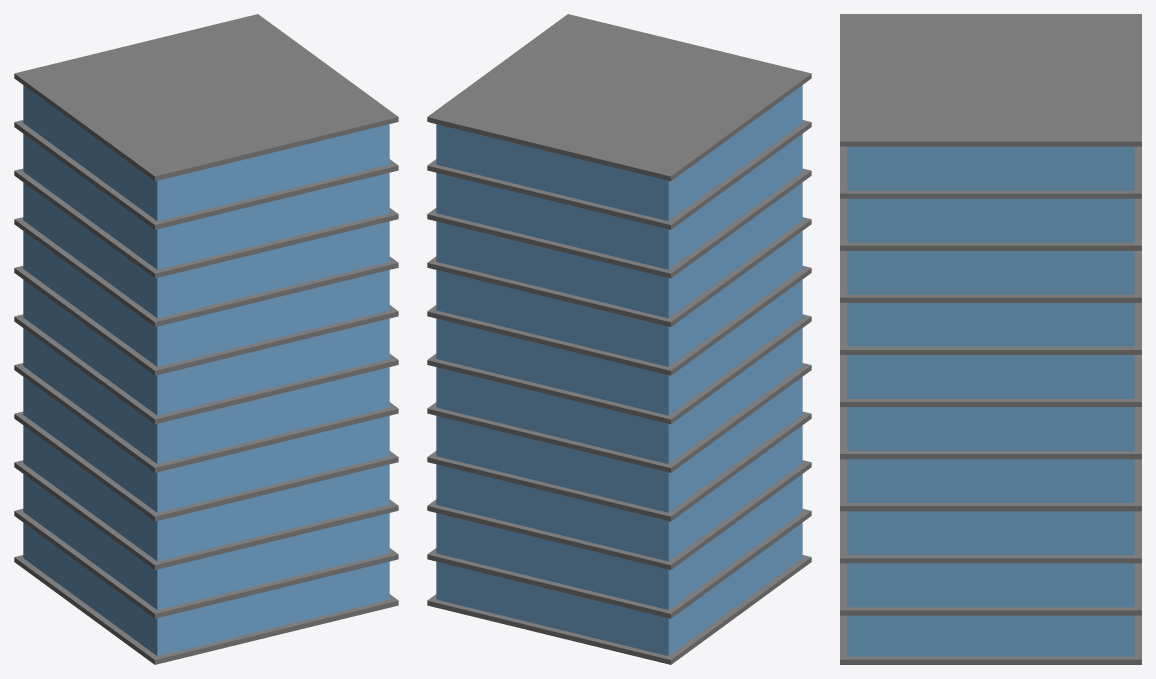
The model's file is Building1.gltf.
The picture shows the model from 3 angles, left to right: view 1: azimuth 30°, elevation 25°; view 2: azimuth 150°, elevation 25°; view 3: azimuth 270°, elevation 25°; orthographic projection. The views are drawn at different scales.
Visible parts, largest first — view 1: Cube.006, Cube.011, Cube, Cube.001, Cube.004, Cube.005, Cube.008, Cube.010, Cube.003, Cube.009, Cube.002, Cube.007; view 2: Cube.006, Cube.011, Cube, Cube.001, Cube.004, Cube.005, Cube.008, Cube.010, Cube.003, Cube.009, Cube.002, Cube.007; view 3: Cube.006, Cube.011, Cube, Cube.002, Cube.003, Cube.004, Cube.009, Cube.010, Cube.007, Cube.008, Cube.001, Cube.005.
Boxes of the visible parts, x1,y1,x2,y2 form: Cube.006: (23,85,389,656); Cube.011: (14,14,398,181); Cube: (14,460,398,569); Cube.001: (14,555,398,664); Cube.004: (14,363,398,472); Cube.005: (14,314,398,424); Cube.008: (14,217,398,326); Cube.010: (14,120,398,229); Cube.003: (14,411,398,521); Cube.009: (14,168,398,278); Cube.002: (14,509,398,618); Cube.007: (14,266,398,375); Cube.006: (436,85,802,656); Cube.011: (427,14,811,181); Cube: (427,460,811,569); Cube.001: (427,555,811,664); Cube.004: (427,363,811,472); Cube.005: (427,314,811,424); Cube.008: (427,217,811,326); Cube.010: (427,120,811,229); Cube.003: (427,411,811,521); Cube.009: (427,168,811,278); Cube.002: (427,509,811,618); Cube.007: (427,266,811,375); Cube.006: (847,146,1134,656); Cube.011: (840,14,1141,146); Cube: (840,511,1141,563); Cube.002: (840,563,1141,615); Cube.003: (840,459,1141,511); Cube.004: (840,407,1141,459); Cube.009: (840,198,1141,250); Cube.010: (840,146,1141,198); Cube.007: (840,303,1141,354); Cube.008: (840,251,1141,302); Cube.001: (840,615,1141,664); Cube.005: (840,355,1141,406).
Bounding box in the file's own units: 2.1 × 4.02 × 2.1.
